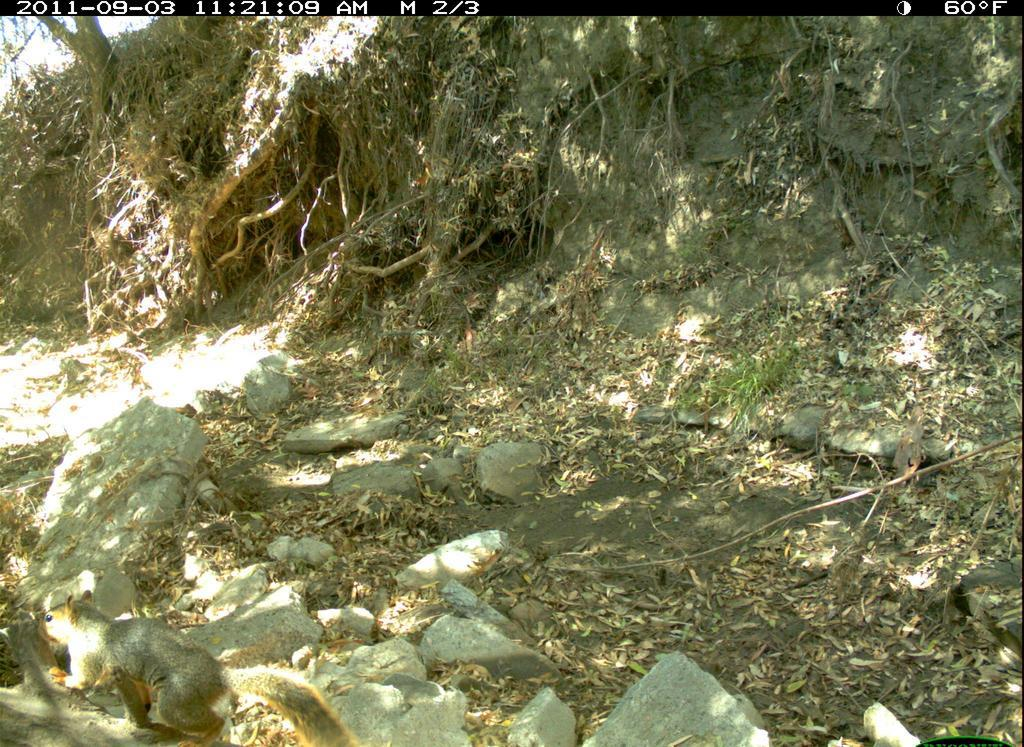squirrel: (28, 581, 375, 747)
